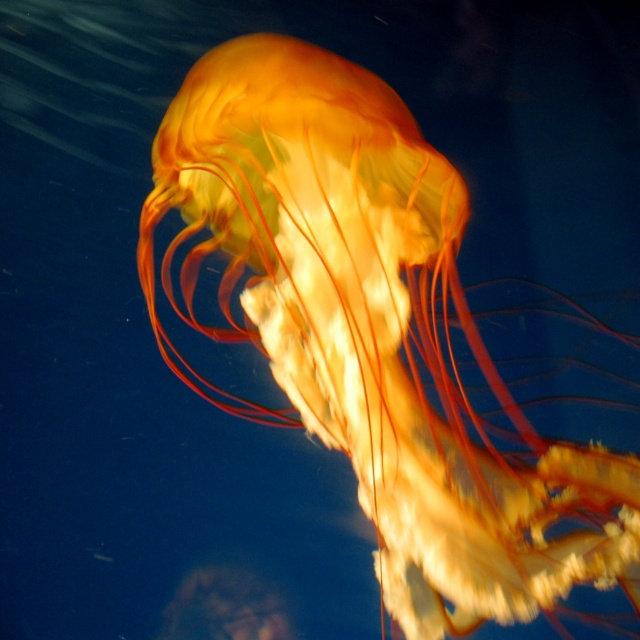Jellyfish: (134, 26, 640, 639)
